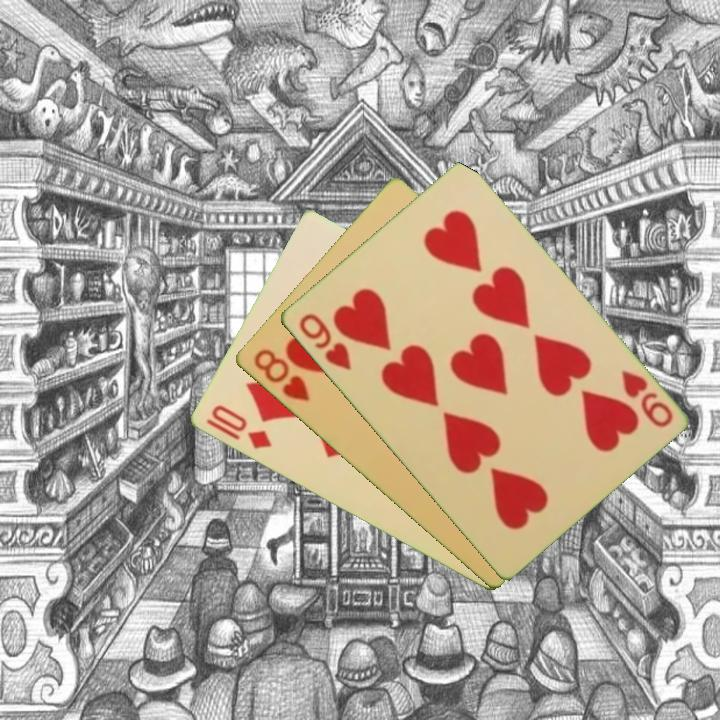10d: (202, 401, 275, 453)
8h: (249, 345, 312, 405)
9h: (616, 366, 676, 431), (295, 309, 354, 373)
